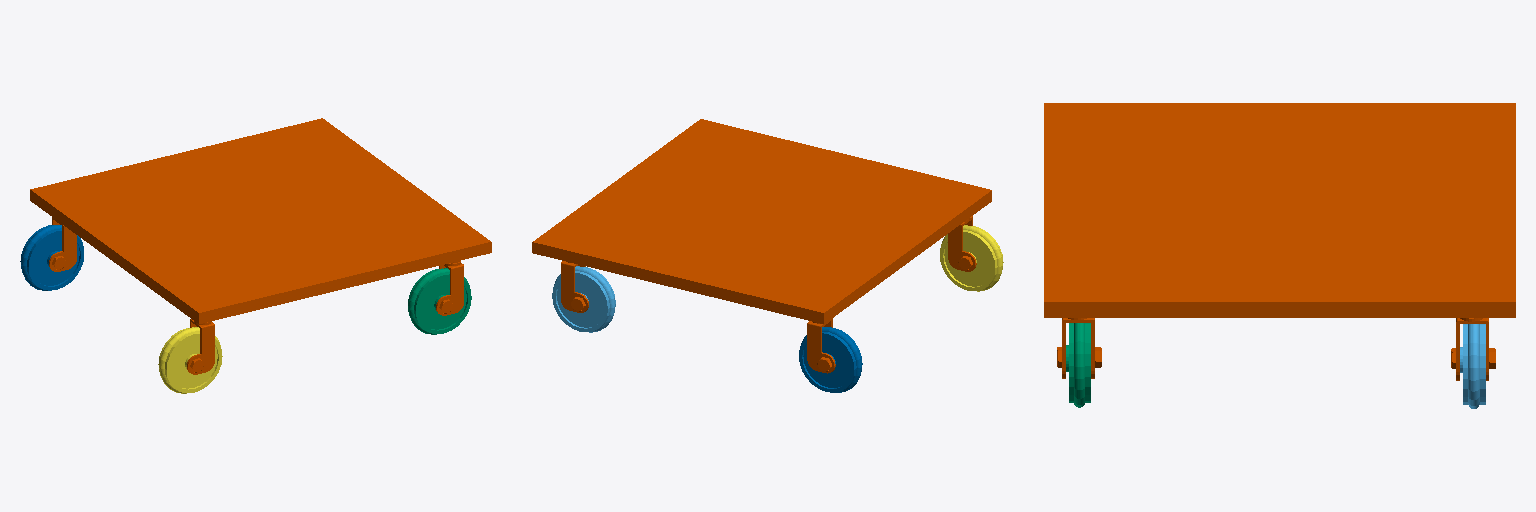
URDF robot description (partnet_c7778ca8dabfc6809856fa70a578baeb):
<?xml version='1.0' encoding='utf-8'?>
<robot name="partnet_c7778ca8dabfc6809856fa70a578baeb">
	<link name="base" />
	<link name="link_0">
		<visual name="wheel-141">
			<origin xyz="0 0.20046622767157418 0.5157304023035693" />
			<geometry>
				<mesh filename="textured_objs/original-4.obj" />
			</geometry>
		</visual>
		<collision>
			<origin xyz="0 0.20046622767157418 0.5157304023035693" />
			<geometry>
				<mesh filename="textured_objs/original-4.obj" />
			</geometry>
		</collision>
	</link>
	<joint name="joint_0" type="continuous">
		<origin xyz="0 -0.20046622767157418 -0.5157304023035693" />
		<axis xyz="-1 0 0" />
		<child link="link_0" />
		<parent link="link_4" />
	</joint>
	<link name="link_1">
		<visual name="wheel-132">
			<origin xyz="0 0.2004662276711634 0.5062325976966009" />
			<geometry>
				<mesh filename="textured_objs/original-40.obj" />
			</geometry>
		</visual>
		<collision>
			<origin xyz="0 0.2004662276711634 0.5062325976966009" />
			<geometry>
				<mesh filename="textured_objs/original-40.obj" />
			</geometry>
		</collision>
	</link>
	<joint name="joint_1" type="continuous">
		<origin xyz="0 -0.2004662276711634 -0.5062325976966009" />
		<axis xyz="-1 0 0" />
		<child link="link_1" />
		<parent link="link_4" />
	</joint>
	<link name="link_2">
		<visual name="wheel-150">
			<origin xyz="0 0.2004662276711634 -0.6454735976966008" />
			<geometry>
				<mesh filename="textured_objs/original-28.obj" />
			</geometry>
		</visual>
		<collision>
			<origin xyz="0 0.2004662276711634 -0.6454735976966008" />
			<geometry>
				<mesh filename="textured_objs/original-28.obj" />
			</geometry>
		</collision>
	</link>
	<joint name="joint_2" type="continuous">
		<origin xyz="0 -0.2004662276711634 0.6454735976966008" />
		<axis xyz="-1 0 0" />
		<child link="link_2" />
		<parent link="link_4" />
	</joint>
	<link name="link_3">
		<visual name="wheel-112">
			<origin xyz="0 0.2004662276711634 -0.6375644023033991" />
			<geometry>
				<mesh filename="textured_objs/original-16.obj" />
			</geometry>
		</visual>
		<collision>
			<origin xyz="0 0.2004662276711634 -0.6375644023033991" />
			<geometry>
				<mesh filename="textured_objs/original-16.obj" />
			</geometry>
		</collision>
	</link>
	<joint name="joint_3" type="continuous">
		<origin xyz="0 -0.2004662276711634 0.6375644023033991" />
		<axis xyz="-1 0 0" />
		<child link="link_3" />
		<parent link="link_4" />
	</joint>
	<link name="link_4">
		<visual name="board-102">
			<origin xyz="0 0 0" />
			<geometry>
				<mesh filename="textured_objs/original-34.obj" />
			</geometry>
		</visual>
		<visual name="board-102">
			<origin xyz="0 0 0" />
			<geometry>
				<mesh filename="textured_objs/original-33.obj" />
			</geometry>
		</visual>
		<visual name="board-102">
			<origin xyz="0 0 0" />
			<geometry>
				<mesh filename="textured_objs/original-36.obj" />
			</geometry>
		</visual>
		<visual name="board-102">
			<origin xyz="0 0 0" />
			<geometry>
				<mesh filename="textured_objs/original-35.obj" />
			</geometry>
		</visual>
		<visual name="board-102">
			<origin xyz="0 0 0" />
			<geometry>
				<mesh filename="textured_objs/original-45.obj" />
			</geometry>
		</visual>
		<visual name="board-102">
			<origin xyz="0 0 0" />
			<geometry>
				<mesh filename="textured_objs/original-21.obj" />
			</geometry>
		</visual>
		<visual name="board-102">
			<origin xyz="0 0 0" />
			<geometry>
				<mesh filename="textured_objs/original-24.obj" />
			</geometry>
		</visual>
		<visual name="board-102">
			<origin xyz="0 0 0" />
			<geometry>
				<mesh filename="textured_objs/original-23.obj" />
			</geometry>
		</visual>
		<visual name="board-102">
			<origin xyz="0 0 0" />
			<geometry>
				<mesh filename="textured_objs/original-22.obj" />
			</geometry>
		</visual>
		<visual name="board-102">
			<origin xyz="0 0 0" />
			<geometry>
				<mesh filename="textured_objs/original-10.obj" />
			</geometry>
		</visual>
		<visual name="board-102">
			<origin xyz="0 0 0" />
			<geometry>
				<mesh filename="textured_objs/original-12.obj" />
			</geometry>
		</visual>
		<visual name="board-102">
			<origin xyz="0 0 0" />
			<geometry>
				<mesh filename="textured_objs/original-11.obj" />
			</geometry>
		</visual>
		<visual name="board-102">
			<origin xyz="0 0 0" />
			<geometry>
				<mesh filename="textured_objs/original-46.obj" />
			</geometry>
		</visual>
		<visual name="board-102">
			<origin xyz="0 0 0" />
			<geometry>
				<mesh filename="textured_objs/original-47.obj" />
			</geometry>
		</visual>
		<visual name="board-102">
			<origin xyz="0 0 0" />
			<geometry>
				<mesh filename="textured_objs/original-48.obj" />
			</geometry>
		</visual>
		<visual name="board-102">
			<origin xyz="0 0 0" />
			<geometry>
				<mesh filename="textured_objs/original-49.obj" />
			</geometry>
		</visual>
		<visual name="caster_stem-140">
			<origin xyz="0 0 0" />
			<geometry>
				<mesh filename="textured_objs/original-8.obj" />
			</geometry>
		</visual>
		<visual name="brake-142">
			<origin xyz="0 0 0" />
			<geometry>
				<mesh filename="textured_objs/original-7.obj" />
			</geometry>
		</visual>
		<visual name="caster_stem-131">
			<origin xyz="0 0 0" />
			<geometry>
				<mesh filename="textured_objs/original-44.obj" />
			</geometry>
		</visual>
		<visual name="brake-133">
			<origin xyz="0 0 0" />
			<geometry>
				<mesh filename="textured_objs/original-43.obj" />
			</geometry>
		</visual>
		<visual name="caster_stem-149">
			<origin xyz="0 0 0" />
			<geometry>
				<mesh filename="textured_objs/original-32.obj" />
			</geometry>
		</visual>
		<visual name="brake-151">
			<origin xyz="0 0 0" />
			<geometry>
				<mesh filename="textured_objs/original-31.obj" />
			</geometry>
		</visual>
		<visual name="caster_stem-111">
			<origin xyz="0 0 0" />
			<geometry>
				<mesh filename="textured_objs/original-20.obj" />
			</geometry>
		</visual>
		<visual name="brake-113">
			<origin xyz="0 0 0" />
			<geometry>
				<mesh filename="textured_objs/original-19.obj" />
			</geometry>
		</visual>
		<visual name="other_leaf-147">
			<origin xyz="0 0 0" />
			<geometry>
				<mesh filename="textured_objs/original-3.obj" />
			</geometry>
		</visual>
		<visual name="other_leaf-148">
			<origin xyz="0 0 0" />
			<geometry>
				<mesh filename="textured_objs/original-2.obj" />
			</geometry>
		</visual>
		<visual name="other_leaf-145">
			<origin xyz="0 0 0" />
			<geometry>
				<mesh filename="textured_objs/original-6.obj" />
			</geometry>
		</visual>
		<visual name="other_leaf-146">
			<origin xyz="0 0 0" />
			<geometry>
				<mesh filename="textured_objs/original-5.obj" />
			</geometry>
		</visual>
		<visual name="other_leaf-138">
			<origin xyz="0 0 0" />
			<geometry>
				<mesh filename="textured_objs/original-38.obj" />
			</geometry>
		</visual>
		<visual name="other_leaf-139">
			<origin xyz="0 0 0" />
			<geometry>
				<mesh filename="textured_objs/original-39.obj" />
			</geometry>
		</visual>
		<visual name="other_leaf-136">
			<origin xyz="0 0 0" />
			<geometry>
				<mesh filename="textured_objs/original-42.obj" />
			</geometry>
		</visual>
		<visual name="other_leaf-137">
			<origin xyz="0 0 0" />
			<geometry>
				<mesh filename="textured_objs/original-41.obj" />
			</geometry>
		</visual>
		<visual name="other_leaf-156">
			<origin xyz="0 0 0" />
			<geometry>
				<mesh filename="textured_objs/original-26.obj" />
			</geometry>
		</visual>
		<visual name="other_leaf-157">
			<origin xyz="0 0 0" />
			<geometry>
				<mesh filename="textured_objs/original-27.obj" />
			</geometry>
		</visual>
		<visual name="other_leaf-154">
			<origin xyz="0 0 0" />
			<geometry>
				<mesh filename="textured_objs/original-29.obj" />
			</geometry>
		</visual>
		<visual name="other_leaf-155">
			<origin xyz="0 0 0" />
			<geometry>
				<mesh filename="textured_objs/original-30.obj" />
			</geometry>
		</visual>
		<visual name="other_leaf-118">
			<origin xyz="0 0 0" />
			<geometry>
				<mesh filename="textured_objs/original-15.obj" />
			</geometry>
		</visual>
		<visual name="other_leaf-119">
			<origin xyz="0 0 0" />
			<geometry>
				<mesh filename="textured_objs/original-14.obj" />
			</geometry>
		</visual>
		<visual name="other_leaf-116">
			<origin xyz="0 0 0" />
			<geometry>
				<mesh filename="textured_objs/original-18.obj" />
			</geometry>
		</visual>
		<visual name="other_leaf-117">
			<origin xyz="0 0 0" />
			<geometry>
				<mesh filename="textured_objs/original-17.obj" />
			</geometry>
		</visual>
		<collision>
			<origin xyz="0 0 0" />
			<geometry>
				<mesh filename="textured_objs/original-34.obj" />
			</geometry>
		</collision>
		<collision>
			<origin xyz="0 0 0" />
			<geometry>
				<mesh filename="textured_objs/original-33.obj" />
			</geometry>
		</collision>
		<collision>
			<origin xyz="0 0 0" />
			<geometry>
				<mesh filename="textured_objs/original-36.obj" />
			</geometry>
		</collision>
		<collision>
			<origin xyz="0 0 0" />
			<geometry>
				<mesh filename="textured_objs/original-35.obj" />
			</geometry>
		</collision>
		<collision>
			<origin xyz="0 0 0" />
			<geometry>
				<mesh filename="textured_objs/original-45.obj" />
			</geometry>
		</collision>
		<collision>
			<origin xyz="0 0 0" />
			<geometry>
				<mesh filename="textured_objs/original-21.obj" />
			</geometry>
		</collision>
		<collision>
			<origin xyz="0 0 0" />
			<geometry>
				<mesh filename="textured_objs/original-24.obj" />
			</geometry>
		</collision>
		<collision>
			<origin xyz="0 0 0" />
			<geometry>
				<mesh filename="textured_objs/original-23.obj" />
			</geometry>
		</collision>
		<collision>
			<origin xyz="0 0 0" />
			<geometry>
				<mesh filename="textured_objs/original-22.obj" />
			</geometry>
		</collision>
		<collision>
			<origin xyz="0 0 0" />
			<geometry>
				<mesh filename="textured_objs/original-10.obj" />
			</geometry>
		</collision>
		<collision>
			<origin xyz="0 0 0" />
			<geometry>
				<mesh filename="textured_objs/original-12.obj" />
			</geometry>
		</collision>
		<collision>
			<origin xyz="0 0 0" />
			<geometry>
				<mesh filename="textured_objs/original-11.obj" />
			</geometry>
		</collision>
		<collision>
			<origin xyz="0 0 0" />
			<geometry>
				<mesh filename="textured_objs/original-46.obj" />
			</geometry>
		</collision>
		<collision>
			<origin xyz="0 0 0" />
			<geometry>
				<mesh filename="textured_objs/original-47.obj" />
			</geometry>
		</collision>
		<collision>
			<origin xyz="0 0 0" />
			<geometry>
				<mesh filename="textured_objs/original-48.obj" />
			</geometry>
		</collision>
		<collision>
			<origin xyz="0 0 0" />
			<geometry>
				<mesh filename="textured_objs/original-49.obj" />
			</geometry>
		</collision>
		<collision>
			<origin xyz="0 0 0" />
			<geometry>
				<mesh filename="textured_objs/original-8.obj" />
			</geometry>
		</collision>
		<collision>
			<origin xyz="0 0 0" />
			<geometry>
				<mesh filename="textured_objs/original-7.obj" />
			</geometry>
		</collision>
		<collision>
			<origin xyz="0 0 0" />
			<geometry>
				<mesh filename="textured_objs/original-44.obj" />
			</geometry>
		</collision>
		<collision>
			<origin xyz="0 0 0" />
			<geometry>
				<mesh filename="textured_objs/original-43.obj" />
			</geometry>
		</collision>
		<collision>
			<origin xyz="0 0 0" />
			<geometry>
				<mesh filename="textured_objs/original-32.obj" />
			</geometry>
		</collision>
		<collision>
			<origin xyz="0 0 0" />
			<geometry>
				<mesh filename="textured_objs/original-31.obj" />
			</geometry>
		</collision>
		<collision>
			<origin xyz="0 0 0" />
			<geometry>
				<mesh filename="textured_objs/original-20.obj" />
			</geometry>
		</collision>
		<collision>
			<origin xyz="0 0 0" />
			<geometry>
				<mesh filename="textured_objs/original-19.obj" />
			</geometry>
		</collision>
		<collision>
			<origin xyz="0 0 0" />
			<geometry>
				<mesh filename="textured_objs/original-3.obj" />
			</geometry>
		</collision>
		<collision>
			<origin xyz="0 0 0" />
			<geometry>
				<mesh filename="textured_objs/original-2.obj" />
			</geometry>
		</collision>
		<collision>
			<origin xyz="0 0 0" />
			<geometry>
				<mesh filename="textured_objs/original-6.obj" />
			</geometry>
		</collision>
		<collision>
			<origin xyz="0 0 0" />
			<geometry>
				<mesh filename="textured_objs/original-5.obj" />
			</geometry>
		</collision>
		<collision>
			<origin xyz="0 0 0" />
			<geometry>
				<mesh filename="textured_objs/original-38.obj" />
			</geometry>
		</collision>
		<collision>
			<origin xyz="0 0 0" />
			<geometry>
				<mesh filename="textured_objs/original-39.obj" />
			</geometry>
		</collision>
		<collision>
			<origin xyz="0 0 0" />
			<geometry>
				<mesh filename="textured_objs/original-42.obj" />
			</geometry>
		</collision>
		<collision>
			<origin xyz="0 0 0" />
			<geometry>
				<mesh filename="textured_objs/original-41.obj" />
			</geometry>
		</collision>
		<collision>
			<origin xyz="0 0 0" />
			<geometry>
				<mesh filename="textured_objs/original-26.obj" />
			</geometry>
		</collision>
		<collision>
			<origin xyz="0 0 0" />
			<geometry>
				<mesh filename="textured_objs/original-27.obj" />
			</geometry>
		</collision>
		<collision>
			<origin xyz="0 0 0" />
			<geometry>
				<mesh filename="textured_objs/original-29.obj" />
			</geometry>
		</collision>
		<collision>
			<origin xyz="0 0 0" />
			<geometry>
				<mesh filename="textured_objs/original-30.obj" />
			</geometry>
		</collision>
		<collision>
			<origin xyz="0 0 0" />
			<geometry>
				<mesh filename="textured_objs/original-15.obj" />
			</geometry>
		</collision>
		<collision>
			<origin xyz="0 0 0" />
			<geometry>
				<mesh filename="textured_objs/original-14.obj" />
			</geometry>
		</collision>
		<collision>
			<origin xyz="0 0 0" />
			<geometry>
				<mesh filename="textured_objs/original-18.obj" />
			</geometry>
		</collision>
		<collision>
			<origin xyz="0 0 0" />
			<geometry>
				<mesh filename="textured_objs/original-17.obj" />
			</geometry>
		</collision>
	</link>
	<joint name="joint_4" type="fixed">
		<origin rpy="1.570796326794897 0 -1.570796326794897" xyz="0 0 0" />
		<child link="link_4" />
		<parent link="base" />
	</joint>
</robot>

--- Render facts (derived) ---
Views: 3 orthographic renders of the robot side by side, from view 1: azimuth 30°, elevation 25°; view 2: azimuth 150°, elevation 25°; view 3: azimuth 270°, elevation 25°.
Model partnet_c7778ca8dabfc6809856fa70a578baeb with 6 links and 5 joints (4 continuous, 1 fixed), rooted at base, posed every joint at zero.
Visible links, largest first — view 1: link_4, link_1, link_2, link_3; view 2: link_4, link_0, link_3, link_2; view 3: link_4, link_0, link_1.
Link boxes in pixels (x1,y1,x2,y2): link_4: [30, 118, 491, 374]; link_1: [408, 268, 471, 334]; link_2: [158, 327, 222, 393]; link_3: [20, 225, 83, 290]; link_4: [532, 119, 991, 373]; link_0: [552, 266, 615, 332]; link_3: [799, 327, 862, 392]; link_2: [940, 225, 1003, 291]; link_4: [1044, 103, 1515, 380]; link_0: [1460, 324, 1485, 408]; link_1: [1066, 323, 1090, 407].
Size in the robot's own frame: 1.48 by 1.36 by 0.4082 metres.
44 mesh visuals loaded from 44 distinct referenced files (44 OBJ).